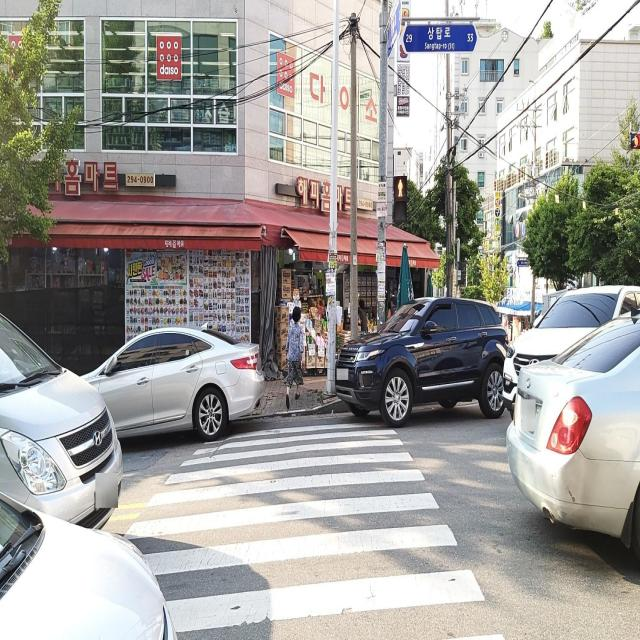빨간불: (392, 175, 408, 224)
횡단보도: (116, 416, 512, 636)
